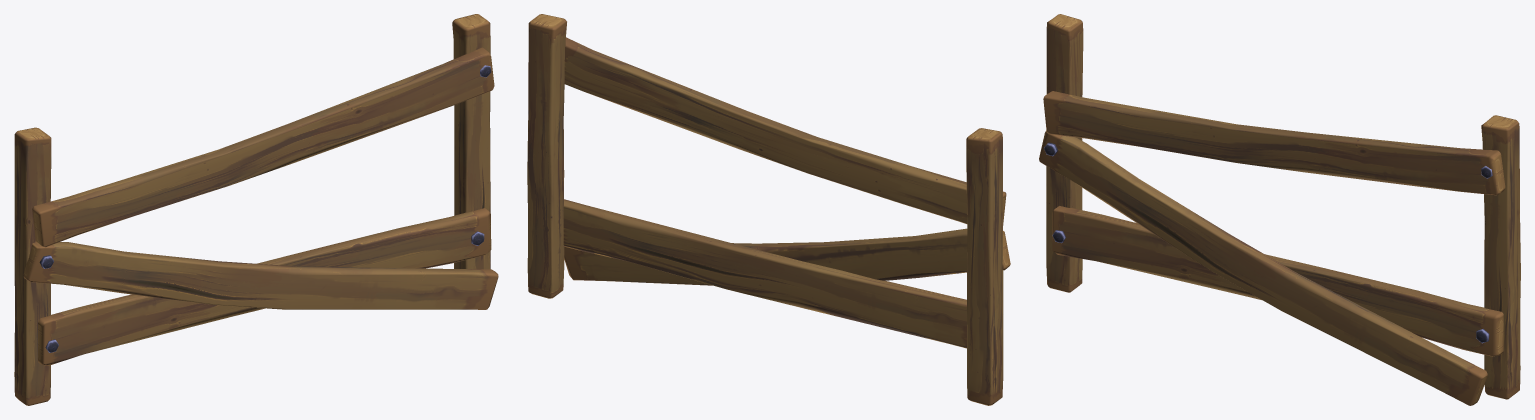
File: SM_MOD_fence_town_03.fbx
3 views of the same model, side by side, from view 1: azimuth 30°, elevation 25°; view 2: azimuth 150°, elevation 25°; view 3: azimuth 330°, elevation 25° (orthographic).
Visible parts, largest first — view 1: SM_MOD_fence_town_03_LOD0; view 2: SM_MOD_fence_town_03_LOD0; view 3: SM_MOD_fence_town_03_LOD0.
Part boxes in pixels (x1,y1,x2,y2): SM_MOD_fence_town_03_LOD0: (14,14,498,405); SM_MOD_fence_town_03_LOD0: (527,14,1010,405); SM_MOD_fence_town_03_LOD0: (1039,14,1520,405).
Size of what is drawn, in the model's own units: 198 by 110 by 23.4.
